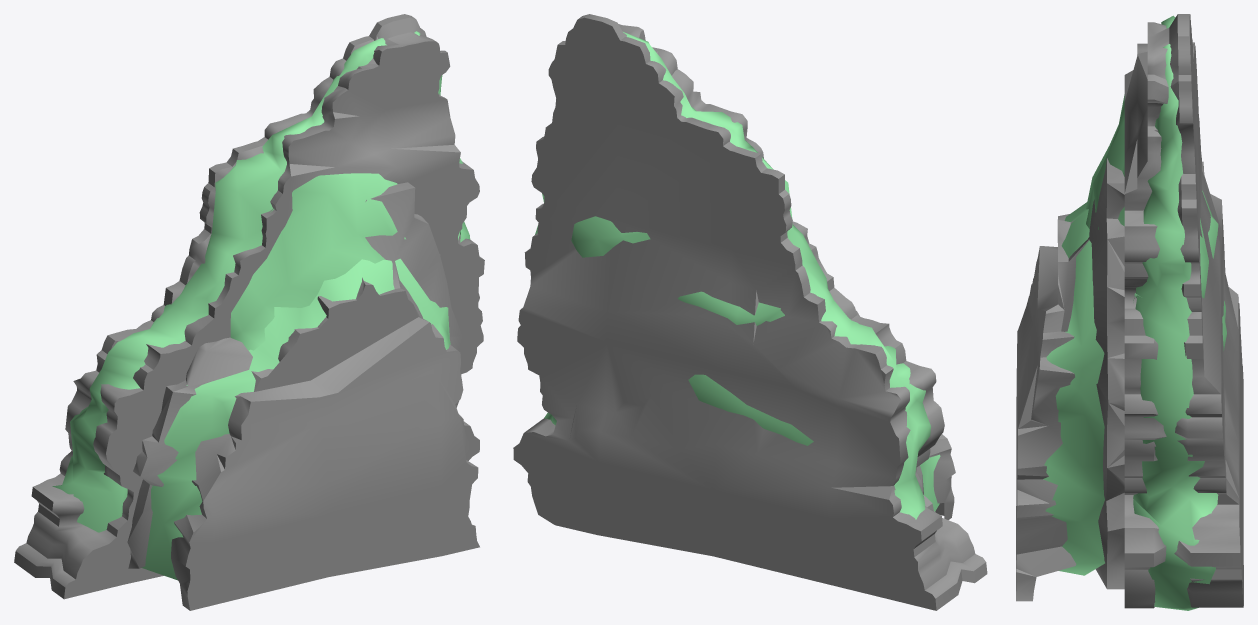
The model's file is SM_Castle_Wall_C_ALT.fbx.
3 renders of one model, left to right at view 1: azimuth 30°, elevation 25°; view 2: azimuth 150°, elevation 25°; view 3: azimuth 270°, elevation 25°, orthographic. The views are drawn at different scales.
Parts seen in each view (by area): view 1: SM_Castle_Wall_C_ALT_LOD0; view 2: SM_Castle_Wall_C_ALT_LOD0; view 3: SM_Castle_Wall_C_ALT_LOD0.
Boxes of the visible parts, x1=… form: SM_Castle_Wall_C_ALT_LOD0: x1=14, y1=14, x2=484, y2=610; SM_Castle_Wall_C_ALT_LOD0: x1=513, y1=14, x2=987, y2=610; SM_Castle_Wall_C_ALT_LOD0: x1=1016, y1=14, x2=1243, y2=610.
Size of what is drawn, in the model's own units: 867 by 953 by 342.
